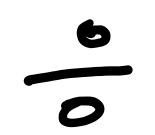div: (23, 20, 133, 128)
